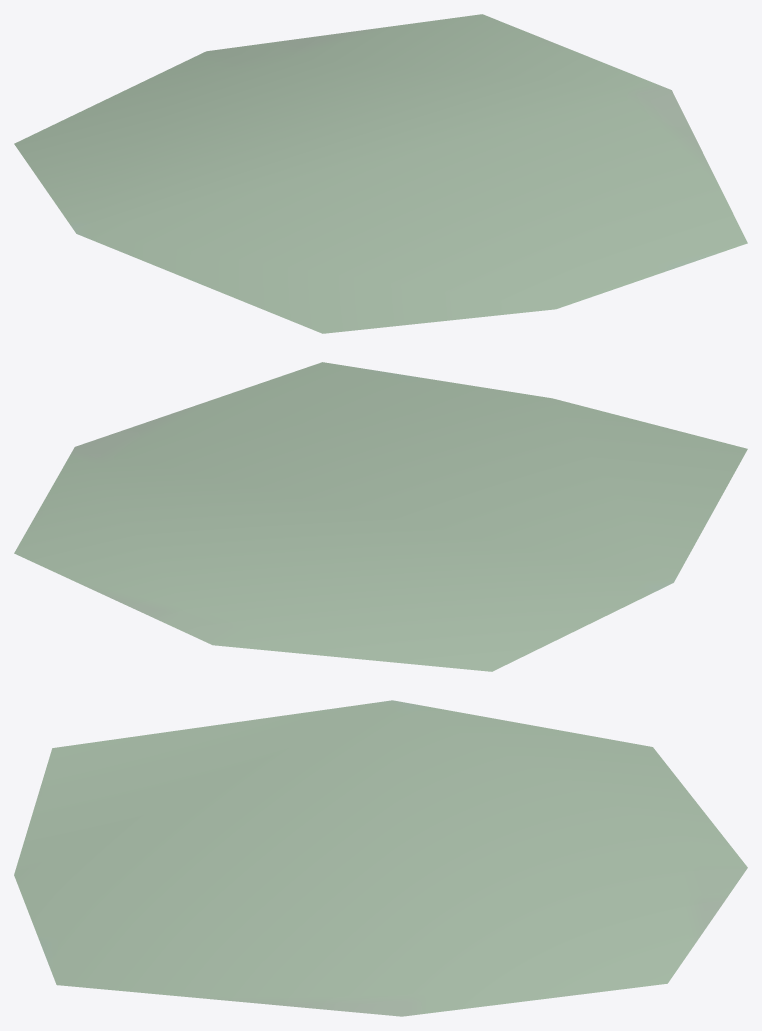
Rendered from TROLLHOLE02_HOLECAP17.fbx.
3 renders of one model, top to bottom at view 1: azimuth 30°, elevation 25°; view 2: azimuth 150°, elevation 25°; view 3: azimuth 270°, elevation 25°, orthographic. The views are drawn at different scales.
Visible parts, largest first — view 1: TROLLHOLE02_HOLECAP17; view 2: TROLLHOLE02_HOLECAP17; view 3: TROLLHOLE02_HOLECAP17.
Part boxes in pixels (x1,y1,x2,y2): TROLLHOLE02_HOLECAP17: [14, 14, 747, 333]; TROLLHOLE02_HOLECAP17: [14, 362, 747, 671]; TROLLHOLE02_HOLECAP17: [14, 700, 747, 1016].
Bounding box in the file's own units: 20091 × 593 × 20095.
1 material, 1 textured.
